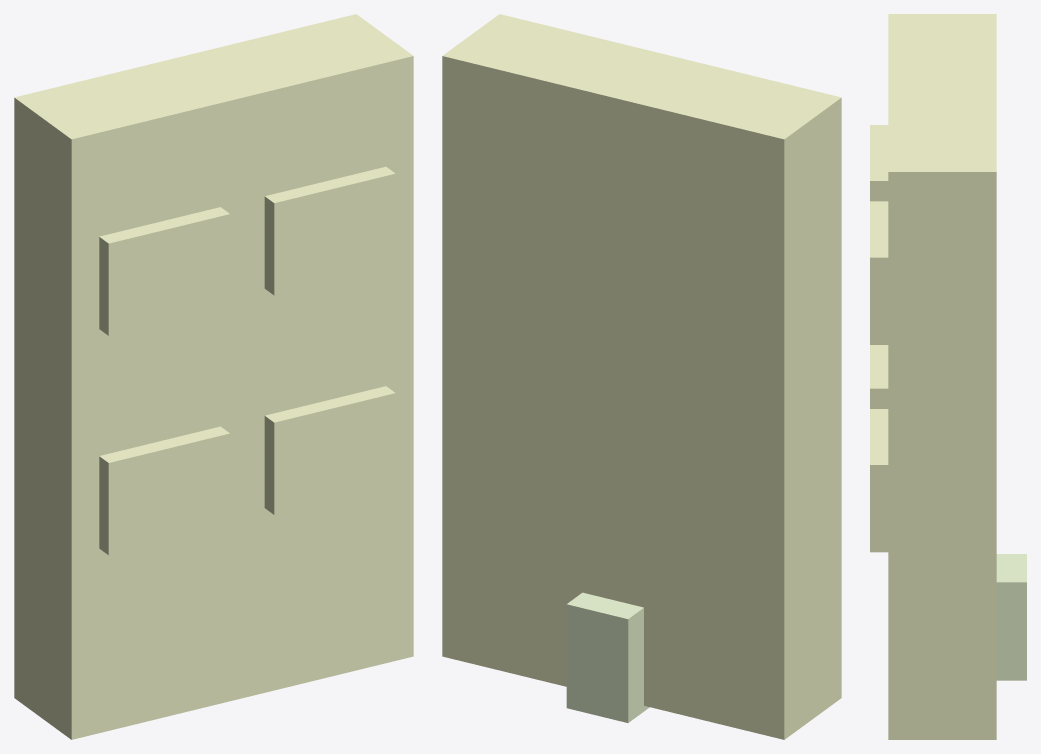
File: signal_pedestrian_bicycle_hybrid_4_aspect.glb
3 views of the same model, side by side, from view 1: azimuth 30°, elevation 25°; view 2: azimuth 150°, elevation 25°; view 3: azimuth 270°, elevation 25° (orthographic). The views are drawn at different scales.
Parts seen in each view (by area): view 1: housing, display_ped_white, display_bike_green, display_ped_red, display_bike_yellow; view 2: housing, bracket; view 3: housing, bracket, display_ped_white, display_bike_green, display_ped_red, display_bike_yellow.
Part boxes in pixels (x1,y1,x2,y2): housing: (14,14,413,739); display_ped_white: (264,166,395,295); display_bike_green: (264,386,395,514); display_ped_red: (99,207,229,335); display_bike_yellow: (99,426,229,555); housing: (442,14,841,739); bracket: (566,592,649,722); housing: (888,14,996,739); bracket: (996,554,1026,680); display_ped_white: (870,201,888,344); display_bike_green: (870,409,888,552); display_ped_red: (870,125,888,201); display_bike_yellow: (870,345,888,408).
Bounding box in the file's own units: 0.62 × 1.05 × 0.26.
